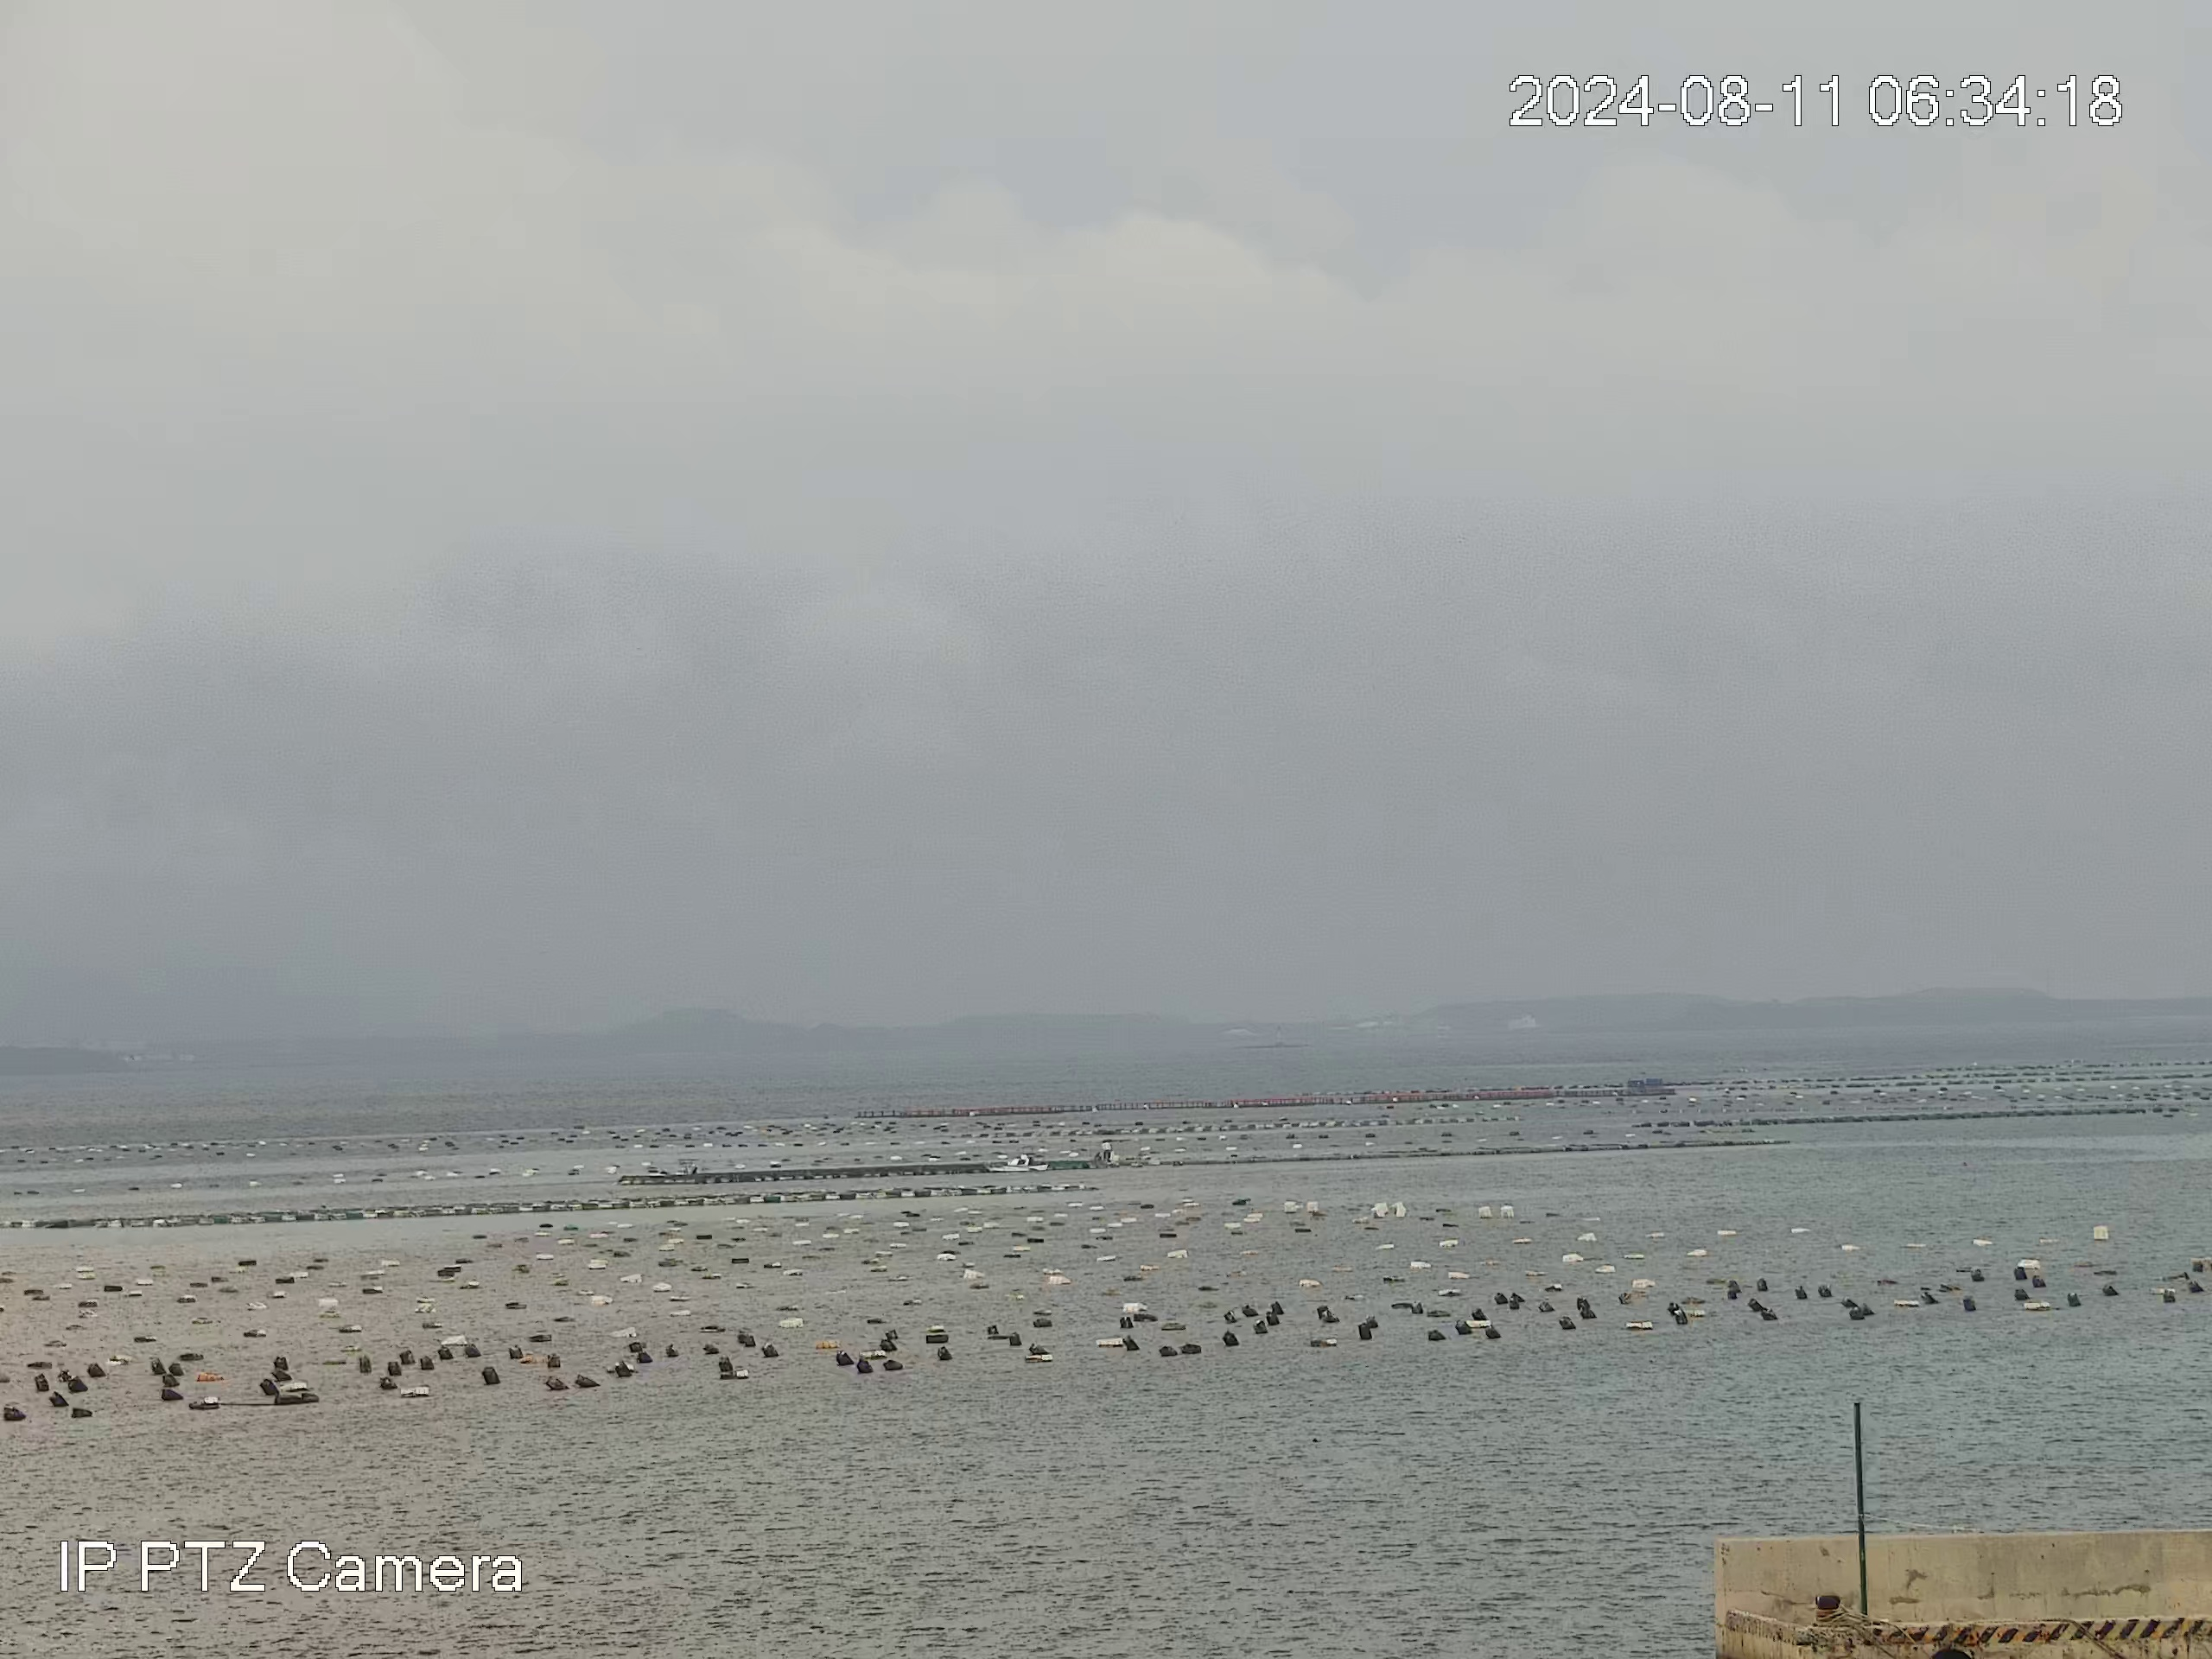boat: (982, 1150, 1052, 1175)
